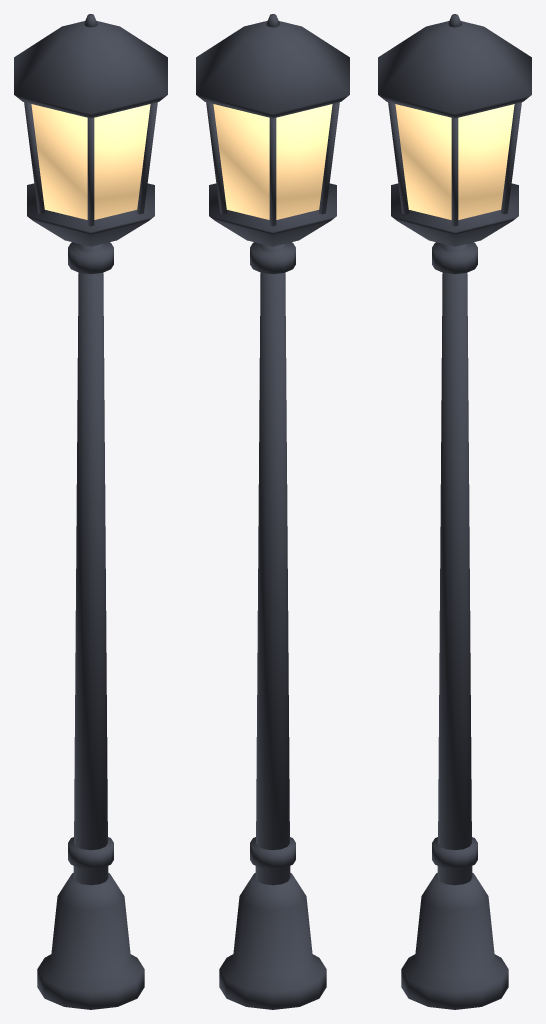
Rendered from SM_Cafe_StreetLamp.fbx.
3 views of the same model, side by side, from view 1: azimuth 30°, elevation 25°; view 2: azimuth 150°, elevation 25°; view 3: azimuth 270°, elevation 25° (orthographic).
Visible parts, largest first — view 1: SM_Cafe_StreetLamp; view 2: SM_Cafe_StreetLamp; view 3: SM_Cafe_StreetLamp.
Part boxes in pixels (left/top/right/bottom): SM_Cafe_StreetLamp: left=14, top=14, right=167, bottom=1009; SM_Cafe_StreetLamp: left=196, top=14, right=349, bottom=1009; SM_Cafe_StreetLamp: left=378, top=14, right=531, bottom=1009.
Bounding box in the file's own units: 0.53 × 0.459 × 3.2.
